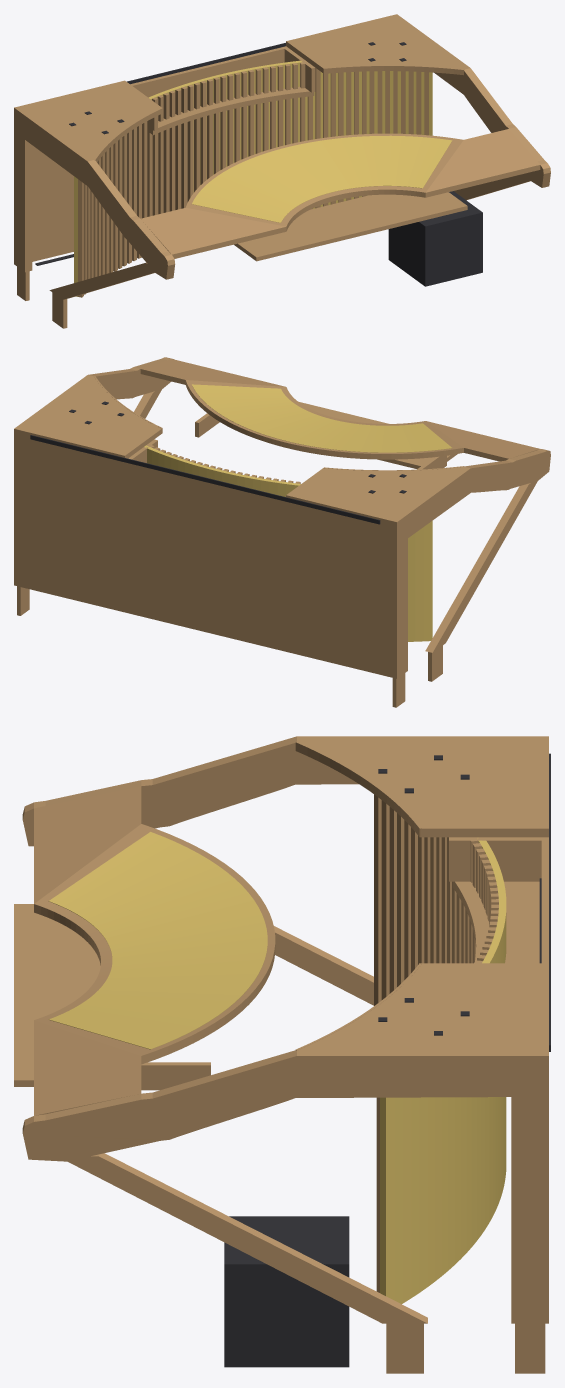
Rendered from Mesa_arco.dae.
The picture shows the model from 3 angles, top to bottom: view 1: azimuth 30°, elevation 25°; view 2: azimuth 150°, elevation 25°; view 3: azimuth 270°, elevation 25°; orthographic projection. The views are drawn at different scales.
Visible parts, largest first — view 1: Frente - listones, Balda - tela acústica, Lateral izquierdo (ala), Frente - tela, Bandeja teclado, Puente - trasera, Sub8 (posición del análisis), Puente - tablero derecho, Puente - tablero izquierdo, Balda - brazo izquierdo, Balda - brazo derecho, Balda - marco (+8 smaller); view 2: Puente - trasera, Balda - tela acústica, Lateral izquierdo (ala), Puente - tablero derecho, Puente - tablero izquierdo, Frente - tela, Lateral derecho (ala), Balda - marco, Lateral izquierdo (pata), LED trasera, Balda - brazo derecho, Balda - brazo izquierdo (+3 smaller); view 3: Lateral derecho (ala), Balda - tela acústica, Frente - tela, Puente - tablero izquierdo, Frente - listones, Sub8 (posición del análisis), Puente - tablero derecho, Lateral izquierdo (ala), Lateral derecho (pata), Bandeja teclado, Balda - marco, Balda - brazo derecho (+9 smaller).
Part boxes in pixels (x1,y1,x2,y2): Frente - listones: (78,62,428,297); Balda - tela acústica: (192,135,452,222); Lateral izquierdo (ala): (14,106,175,279); Frente - tela: (74,60,432,296); Bandeja teclado: (234,192,467,261); Puente - trasera: (32,47,285,261); Sub8 (posición del análisis): (388,191,482,286); Puente - tablero derecho: (286,16,462,73); Puente - tablero izquierdo: (21,80,161,158); Balda - brazo izquierdo: (141,207,286,258); Balda - brazo derecho: (425,129,540,197); Balda - marco: (186,133,463,230); Puente - trasera: (21,435,389,676); Balda - tela acústica: (192,384,451,452); Lateral izquierdo (ala): (389,449,550,678); Puente - tablero derecho: (21,377,162,458); Puente - tablero izquierdo: (286,467,462,525); Frente - tela: (144,445,432,641); Lateral derecho (ala): (14,357,174,586); Balda - marco: (185,380,463,458); Lateral izquierdo (pata): (425,481,537,652); LED trasera: (30,435,380,524); Balda - brazo derecho: (140,359,285,386); Balda - brazo izquierdo: (426,421,539,461); Lateral derecho (ala): (22,1049,548,1323); Balda - tela acústica: (48,832,267,1049); Frente - tela: (380,838,506,1304); Puente - tablero izquierdo: (300,742,548,837); Frente - listones: (374,794,498,1292); Sub8 (posición del análisis): (224,1216,349,1367); Puente - tablero derecho: (300,963,548,1049); Lateral izquierdo (ala): (22,736,548,846); Lateral derecho (pata): (59,1153,427,1323); Bandeja teclado: (14,904,100,1086); Balda - marco: (34,824,275,1064); Balda - brazo derecho: (34,1020,141,1115).
Size of the model in its own units: 78.58 by 55.8 by 36.73.
